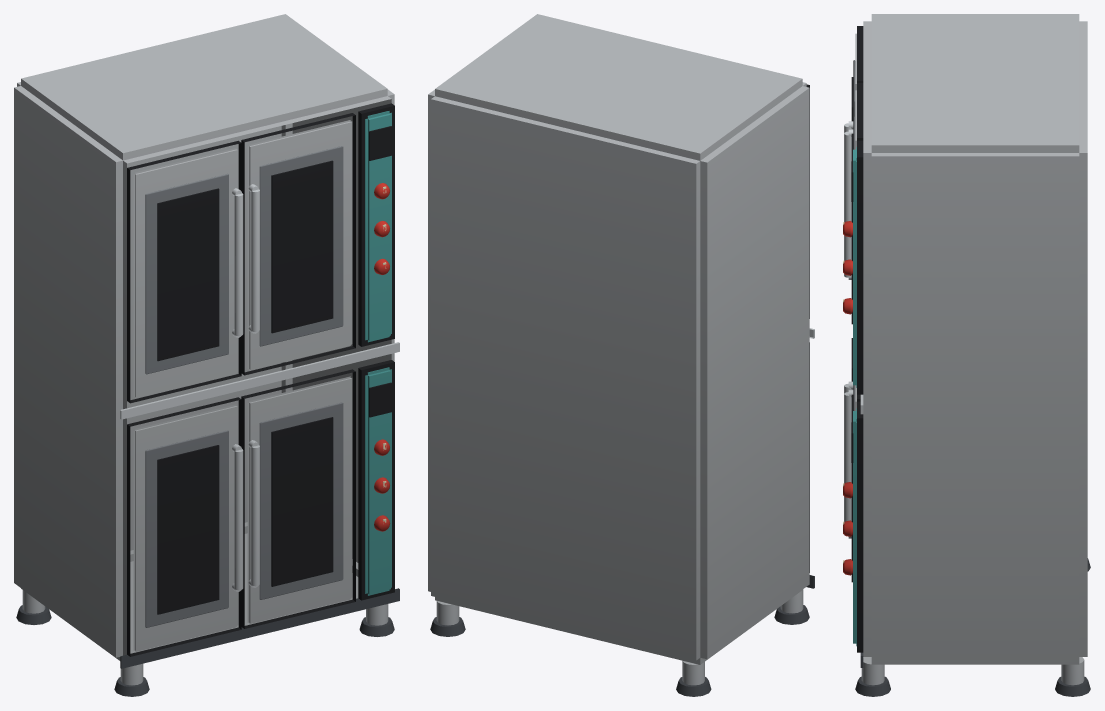
File: SM_Oven_Convection_Double_10.glb
The picture shows the model from 3 angles, left to right: view 1: azimuth 30°, elevation 25°; view 2: azimuth 150°, elevation 25°; view 3: azimuth 270°, elevation 25°; orthographic projection.
Visible parts, largest first — view 1: SM_Oven_Convection_Double_10; view 2: SM_Oven_Convection_Double_10; view 3: SM_Oven_Convection_Double_10.
Part boxes in pixels (x1,y1,x2,y2): SM_Oven_Convection_Double_10: [14, 14, 399, 696]; SM_Oven_Convection_Double_10: [428, 14, 814, 696]; SM_Oven_Convection_Double_10: [843, 14, 1090, 696].
Bounding box in the file's own units: 1 × 1.85 × 0.757.
Materials: 1 (1 with a texture image).
